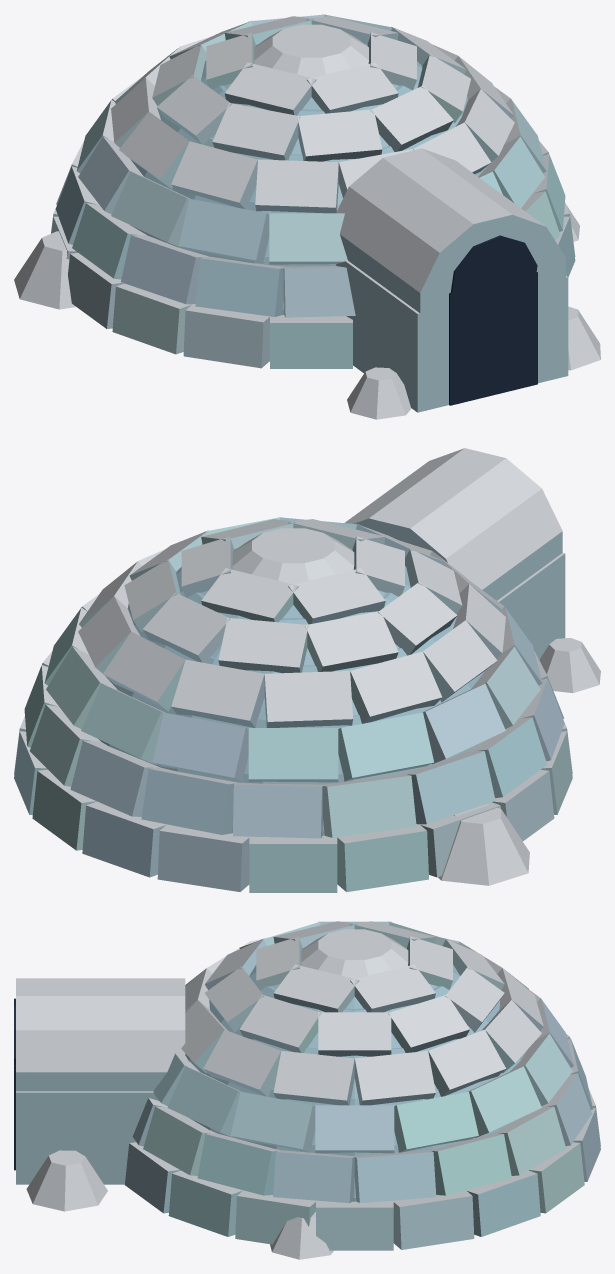
File: Igloo.glb
3 views of the same model, one above another, from view 1: azimuth 30°, elevation 25°; view 2: azimuth 150°, elevation 25°; view 3: azimuth 270°, elevation 25° (orthographic). The views are drawn at different scales.
Parts seen in each view (by area): view 1: Igloo_Dome, Igloo_Door; view 2: Igloo_Dome, Igloo_Door; view 3: Igloo_Dome, Igloo_Door.
Boxes of the visible parts, x1,y1,x2,y2 form: Igloo_Dome: (51, 14, 575, 368); Igloo_Door: (14, 148, 600, 419); Igloo_Dome: (14, 517, 572, 892); Igloo_Door: (345, 448, 600, 885); Igloo_Dome: (124, 921, 600, 1250); Igloo_Door: (14, 978, 333, 1259).
Size of the model in its own units: 15.78 by 6.72 by 17.33.
